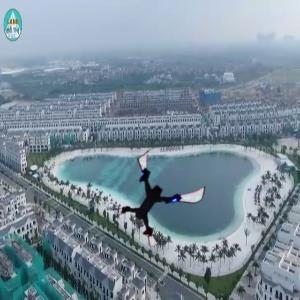drone: (113, 153, 198, 238)
